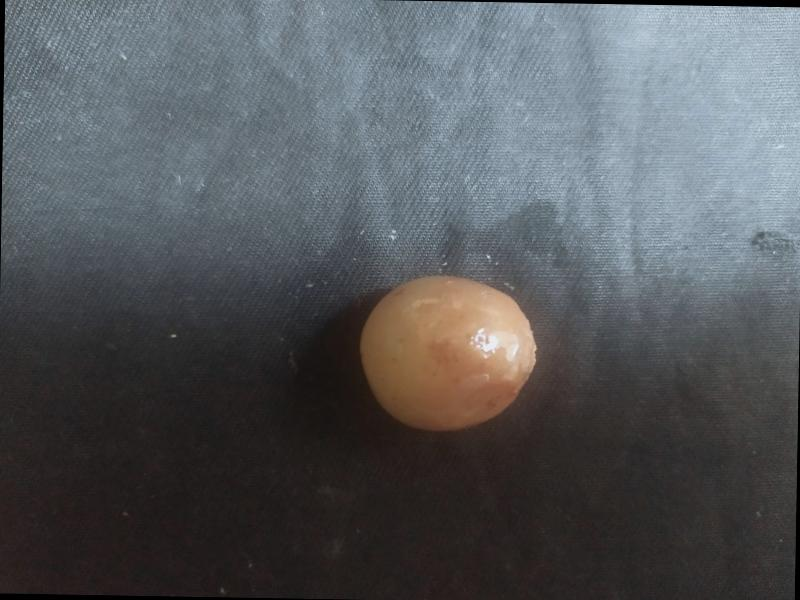Grape Rotten: (354, 270, 539, 436)
